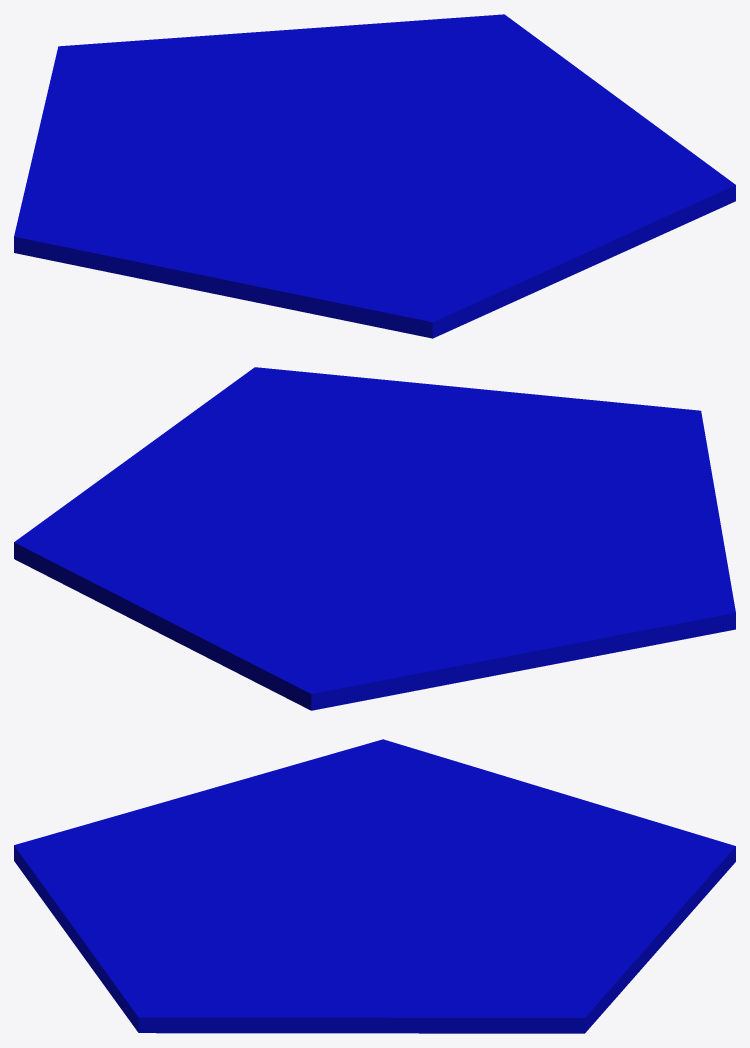
File: star1.dae
The picture shows the model from 3 angles, top to bottom: view 1: azimuth 30°, elevation 25°; view 2: azimuth 150°, elevation 25°; view 3: azimuth 270°, elevation 25°; orthographic projection. The views are drawn at different scales.
Visible parts, largest first — view 1: Cylinder; view 2: Cylinder; view 3: Cylinder.
Part boxes in pixels (<box>): Cylinder: <box>14,14,735,338</box>; Cylinder: <box>14,367,735,710</box>; Cylinder: <box>14,739,735,1033</box>.
Bounding box in the file's own units: 1.91 × 2.09 × 0.05.
